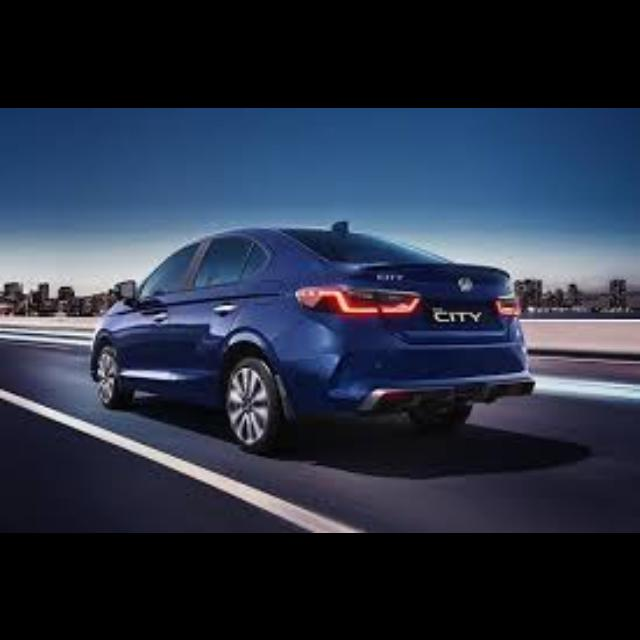vehicles: (82, 217, 540, 461)
